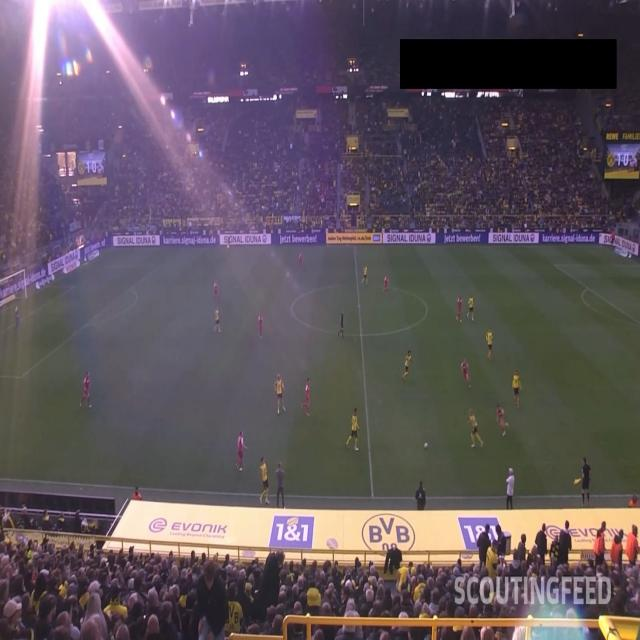f_player: (467, 405, 482, 450), (234, 422, 246, 477), (257, 456, 271, 502), (79, 367, 93, 412), (494, 404, 509, 441), (302, 377, 313, 424), (347, 408, 359, 450), (274, 375, 286, 415), (506, 469, 516, 509), (358, 259, 370, 290), (402, 350, 413, 382), (380, 270, 391, 301), (461, 357, 472, 388), (212, 306, 223, 336), (484, 329, 494, 360), (256, 307, 264, 343), (466, 295, 476, 323), (213, 278, 221, 301), (297, 248, 304, 272)
